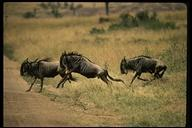antelope: (56, 49, 126, 90), (18, 57, 79, 93), (119, 53, 169, 88)
grass: (86, 93, 183, 123), (86, 34, 182, 53)
